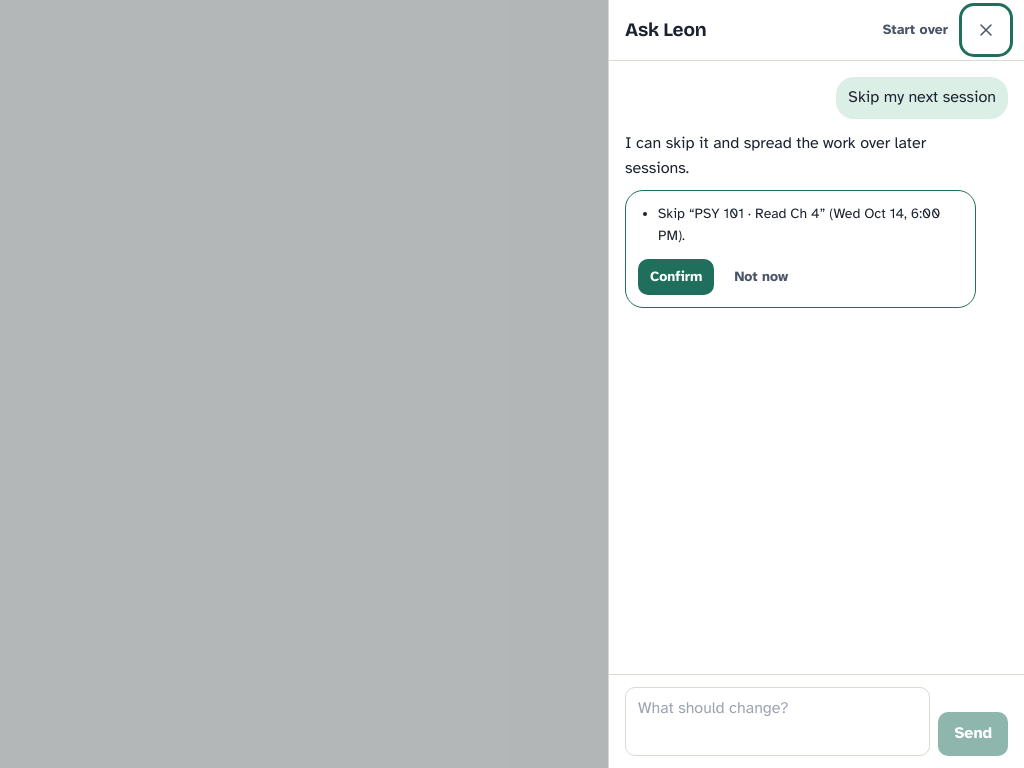
Test case: AssistantPanel › applies a suggestion only after Confirm
Expected: the element named "Suggested changes" shows "Skip “PSY 101 · Read Ch 4”", [658,205,940,244]
Click the button "Confirm": (676, 277) [638,259,714,295]
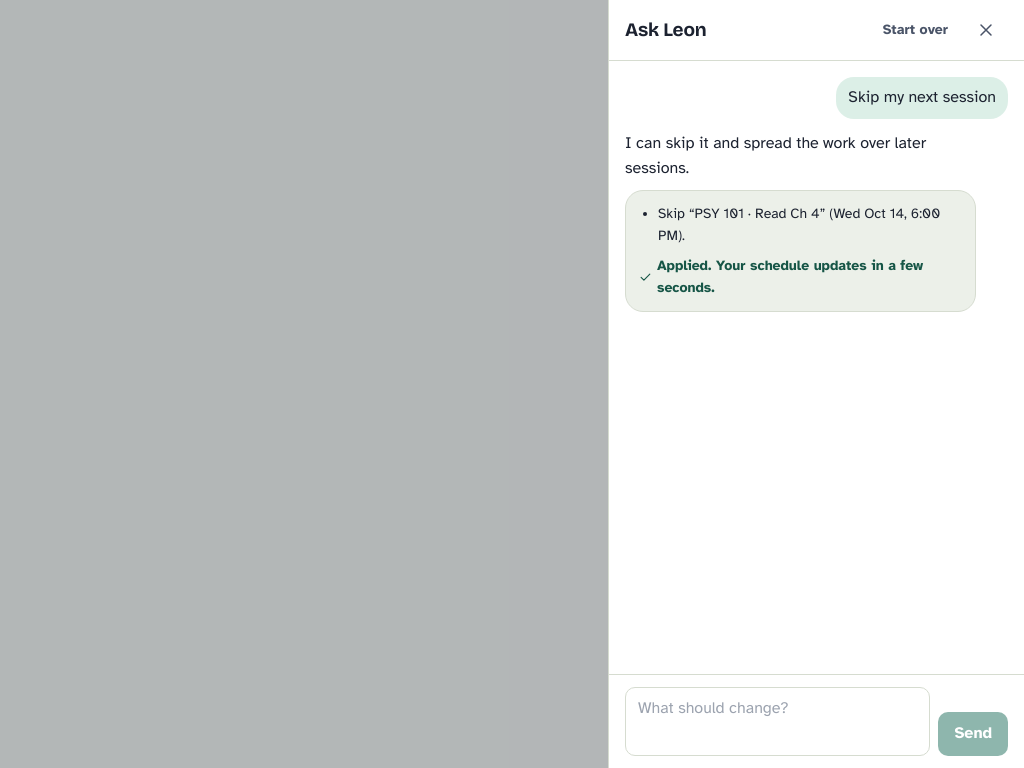
Now the text "Applied. Your schedule updates in a few seconds." is shown, box [638,255,963,299]
Now the button "Confirm" is gone
